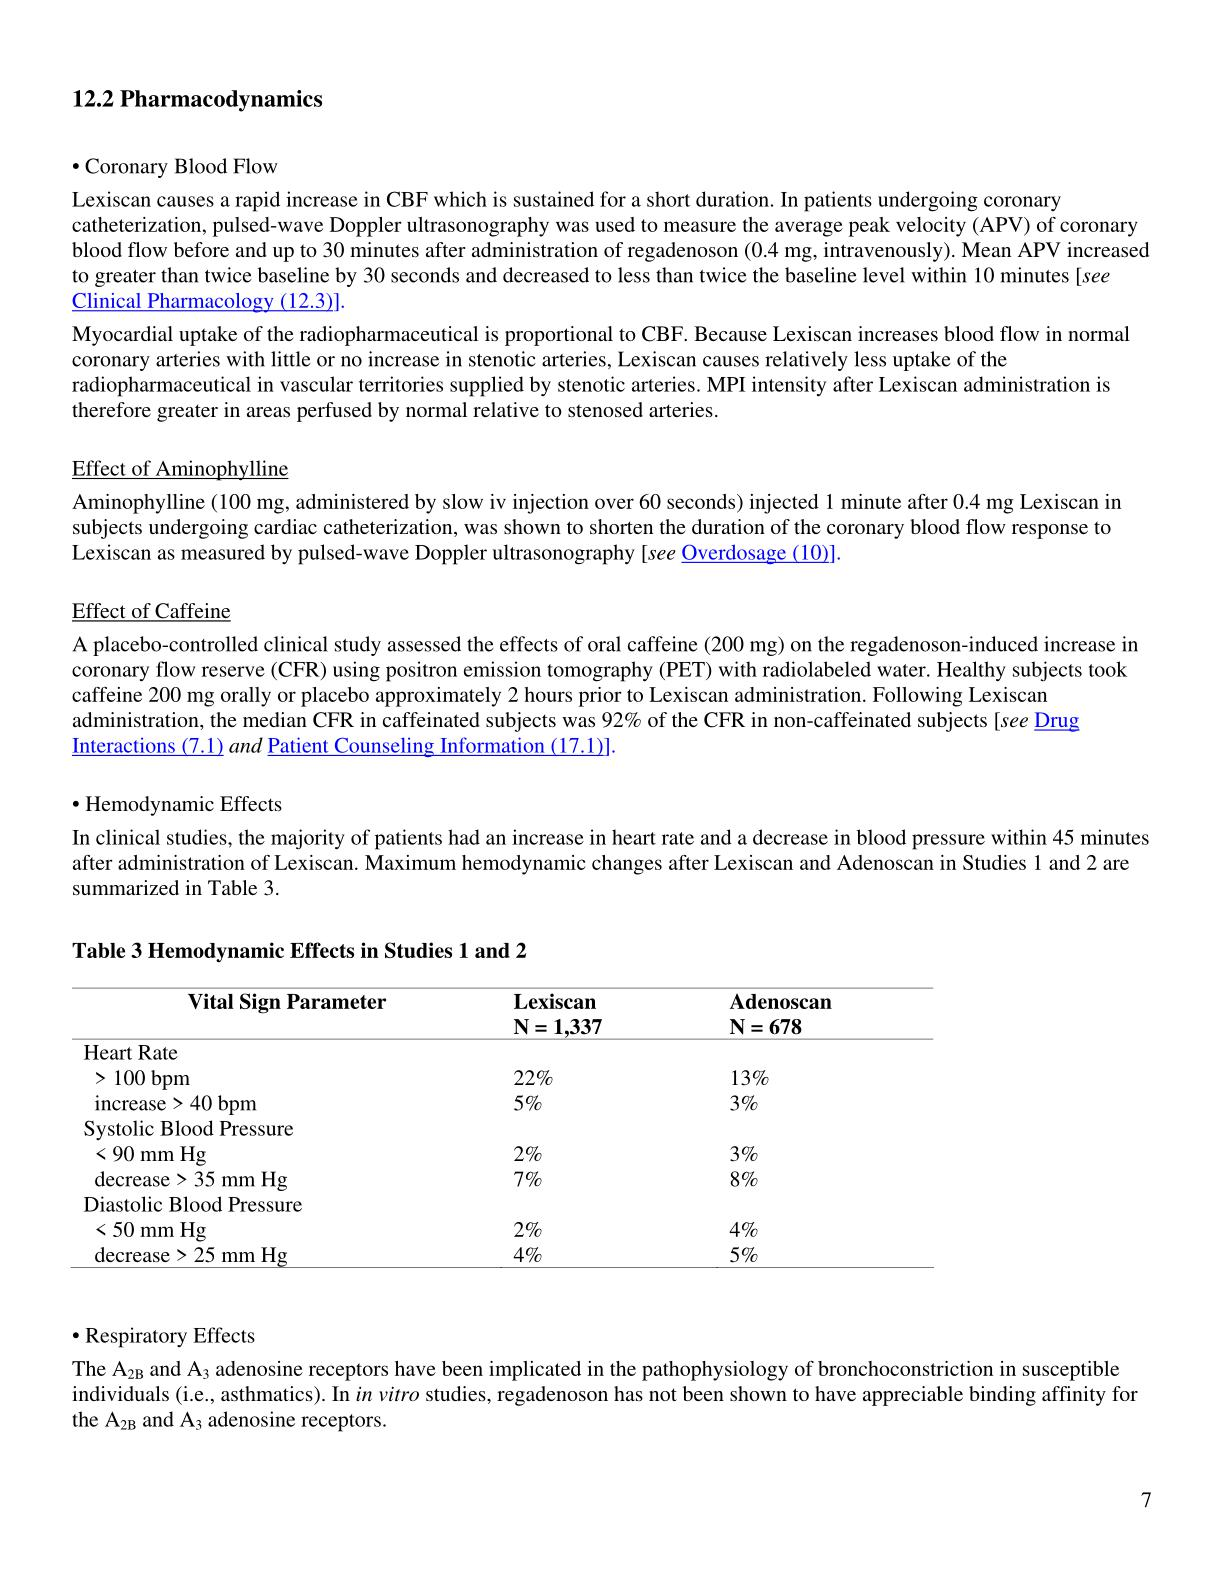partial_lined: (66, 985, 937, 1272)
